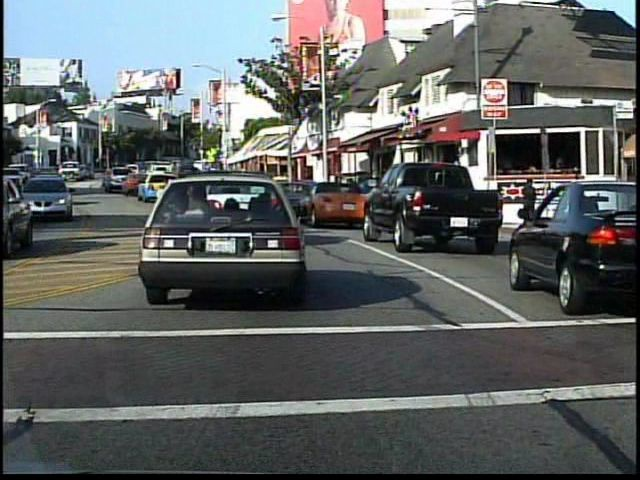person: (519, 171, 540, 232)
